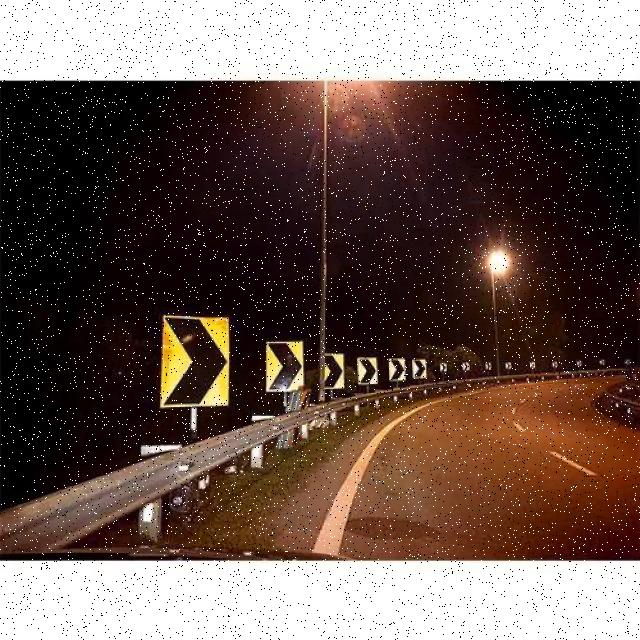chevron_right: (164, 319, 226, 409), (262, 343, 309, 394), (324, 354, 345, 394), (355, 358, 380, 387), (408, 359, 426, 377), (390, 357, 404, 380)
